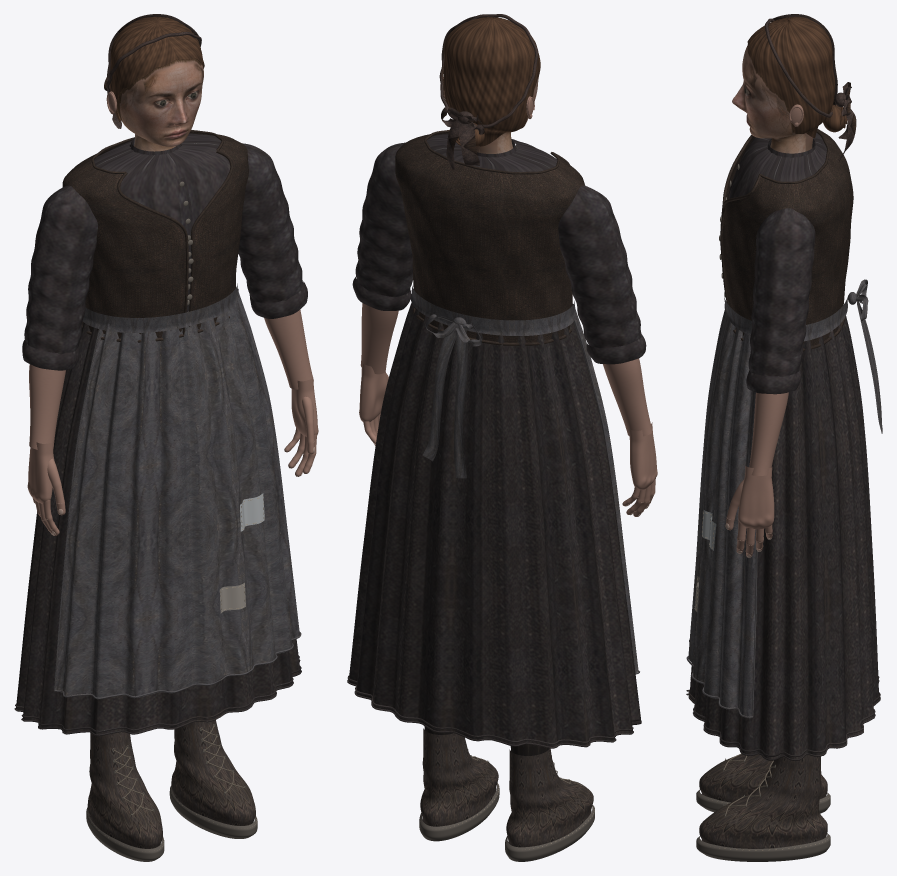
The model's file is viktoria_gabriel_v05.glb.
3 views of the same model, side by side, from view 1: azimuth 30°, elevation 25°; view 2: azimuth 150°, elevation 25°; view 3: azimuth 270°, elevation 25° (orthographic). The views are drawn at different scales.
Visible parts, largest first — view 1: apron, dress-skirt, vest, sleeve--1, sleeve-1, bodice, boot-upper--1, boot-upper-1, face, hair-shell, waistband, forearm--1 (+13 smaller); view 2: dress-skirt, vest, sleeve--1, hair-shell, sleeve-1, boot-upper--1, boot-upper-1, waistband, forearm--1, hand--1, bodice, forearm-1 (+12 smaller); view 3: dress-skirt, apron, vest, sleeve-1, boot-upper-1, hair-shell, face, hand-1, bodice, boot-upper--1, forearm-1, boot-sole-1 (+10 smaller).
Boxes of the visible parts, <box> form: apron: <box>55,289,299,698</box>; dress-skirt: <box>16,322,300,736</box>; vest: <box>62,132,248,338</box>; sleeve--1: <box>24,185,97,354</box>; sleeve-1: <box>238,143,303,303</box>; bodice: <box>94,133,230,224</box>; boot-upper--1: <box>87,732,162,848</box>; boot-upper-1: <box>171,720,255,825</box>; face: <box>117,58,203,151</box>; hair-shell: <box>110,16,204,122</box>; waistband: <box>82,283,238,332</box>; forearm--1: <box>29,364,65,449</box>; dress-skirt: <box>348,302,641,747</box>; vest: <box>395,132,584,342</box>; sleeve--1: <box>558,185,641,347</box>; hair-shell: <box>443,17,540,146</box>; sleeve-1: <box>355,142,412,296</box>; boot-upper--1: <box>506,748,593,847</box>; boot-upper-1: <box>420,728,498,826</box>; waistband: <box>410,286,575,335</box>; forearm--1: <box>603,358,652,436</box>; hand--1: <box>622,422,657,516</box>; bodice: <box>427,133,557,171</box>; forearm-1: <box>360,303,398,374</box>; dress-skirt: <box>689,316,879,760</box>; apron: <box>688,310,756,716</box>; vest: <box>722,129,853,345</box>; sleeve-1: <box>748,208,815,376</box>; boot-upper-1: <box>699,755,827,848</box>; hair-shell: <box>747,16,835,138</box>; face: <box>732,46,813,153</box>; hand-1: <box>726,466,774,556</box>; bodice: <box>729,133,826,198</box>; boot-upper--1: <box>699,754,827,802</box>; forearm-1: <box>749,392,788,475</box>; boot-sole-1: <box>696,833,830,861</box>.
Size of the model in its own units: 0.599 by 1.63 by 0.3567.
Materials: 25 (16 with a texture image).
